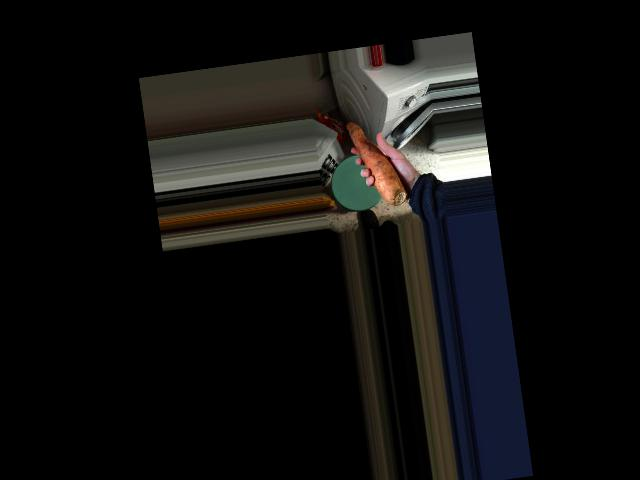sweet_potato: (341, 109, 411, 212)
